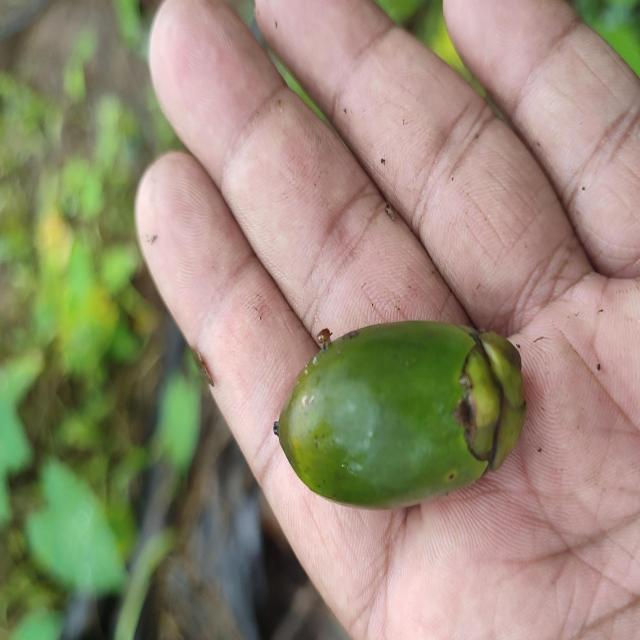good: (272, 320, 526, 512)
